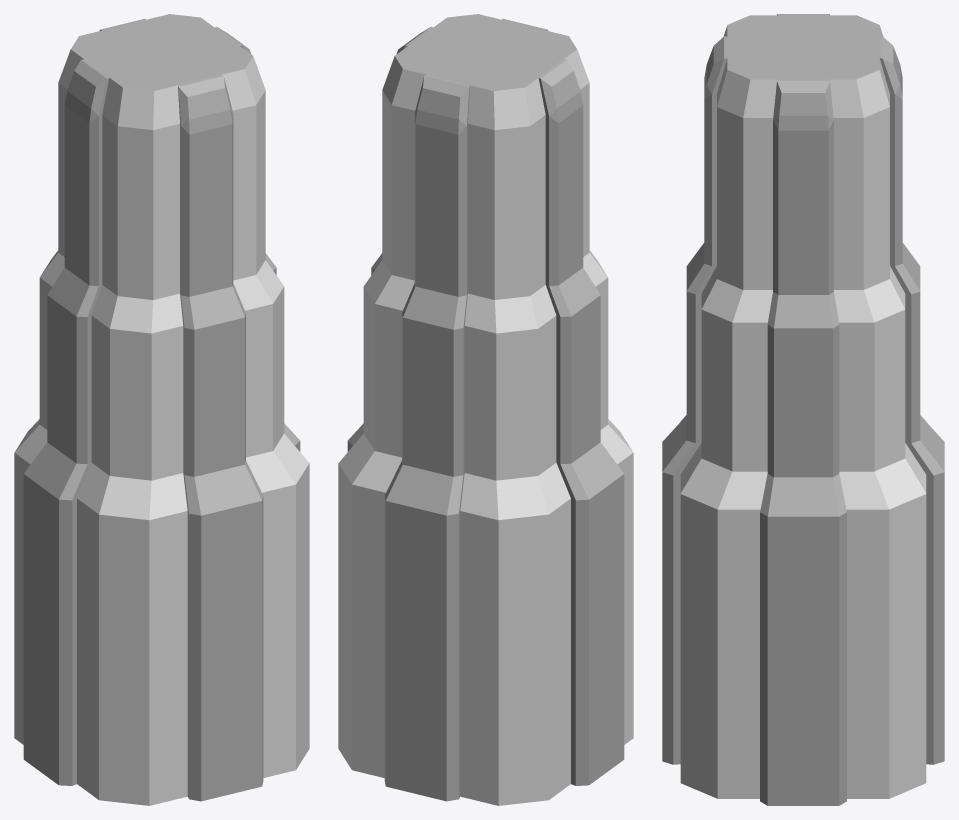
File: Turret_Base.glb
3 views of the same model, side by side, from view 1: azimuth 30°, elevation 25°; view 2: azimuth 150°, elevation 25°; view 3: azimuth 270°, elevation 25° (orthographic).
Visible parts, largest first — view 1: Turret_Base_High; view 2: Turret_Base_High; view 3: Turret_Base_High.
Part boxes in pixels (x1,y1,x2,y2): Turret_Base_High: (14,14,309,805); Turret_Base_High: (338,14,633,805); Turret_Base_High: (662,14,944,805).
Bounding box in the file's own units: 2.48 × 6.79 × 2.48.
2 materials, 2 textured.
